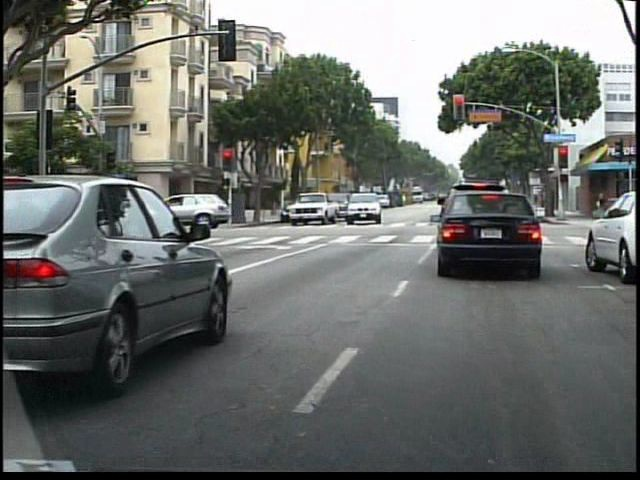person: (112, 191, 130, 235), (132, 192, 148, 233)
